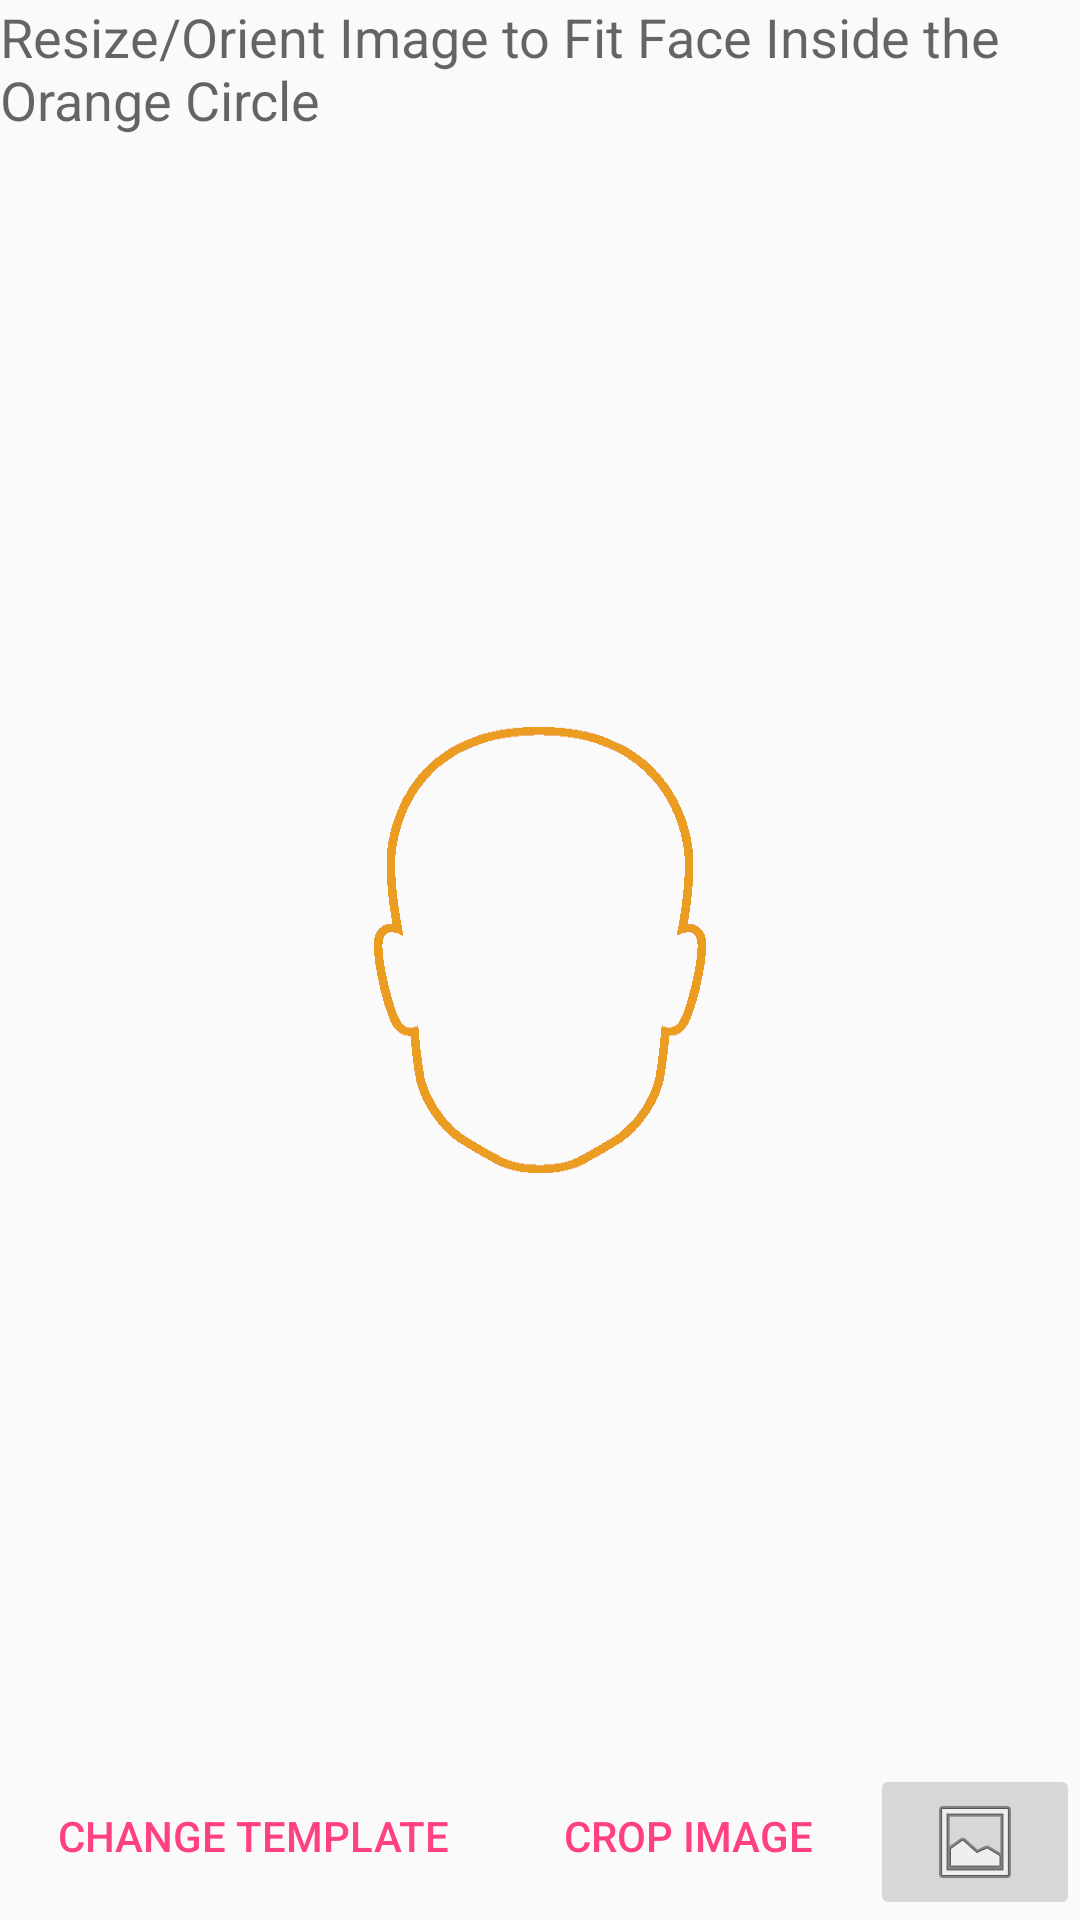

Locate icon controls on the screen. Image size 1080 x 1920, boxes as box(x1, y1, x2, y2).
Change Image: box(882, 1782, 1068, 1902)
